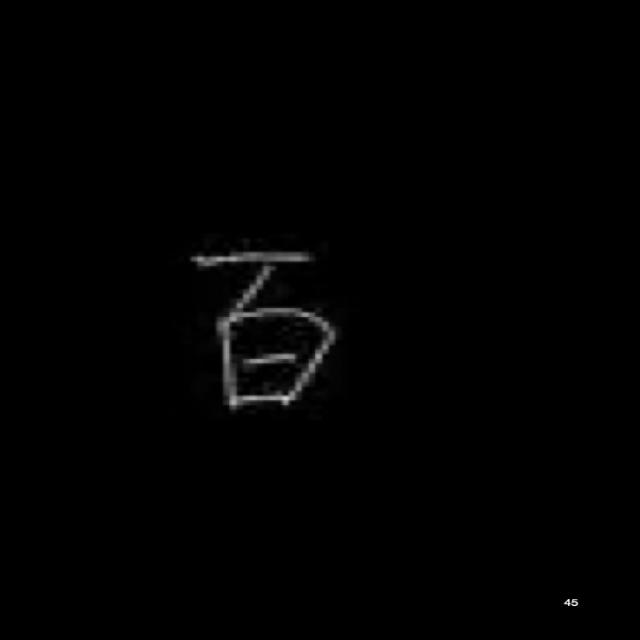100 -a hundred-: (169, 238, 358, 417)
